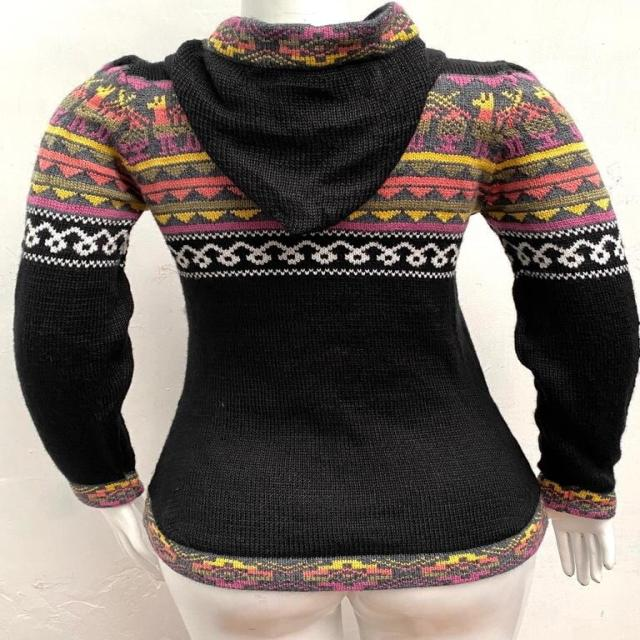Chompa: (12, 2, 638, 636)
